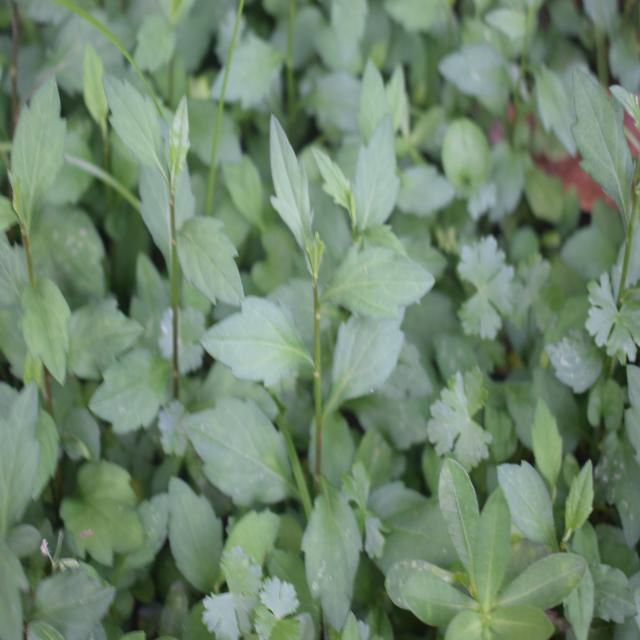Indian aster: (241, 112, 423, 470), (104, 70, 250, 364)
